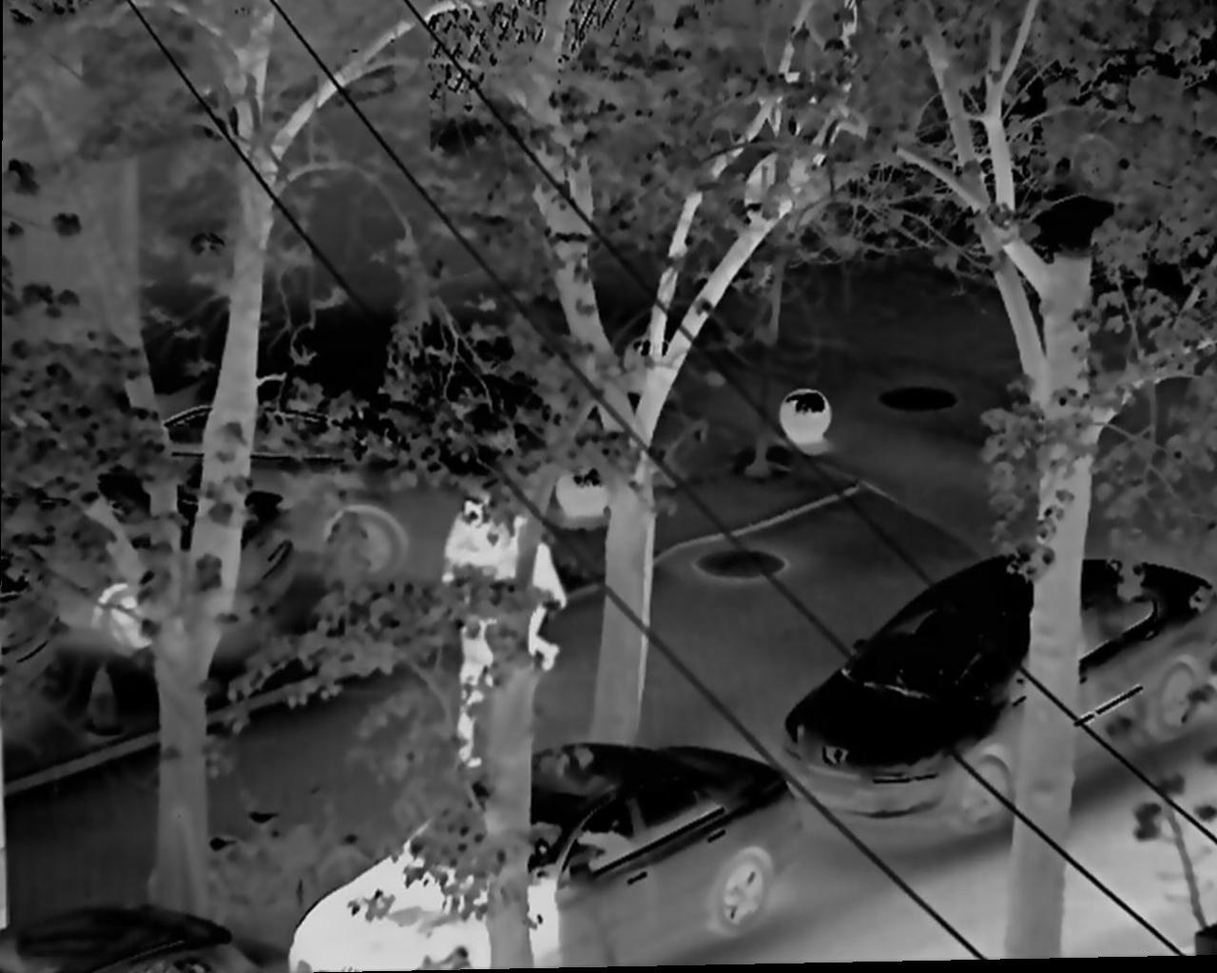person: (435, 487, 500, 668), (498, 517, 569, 676)
